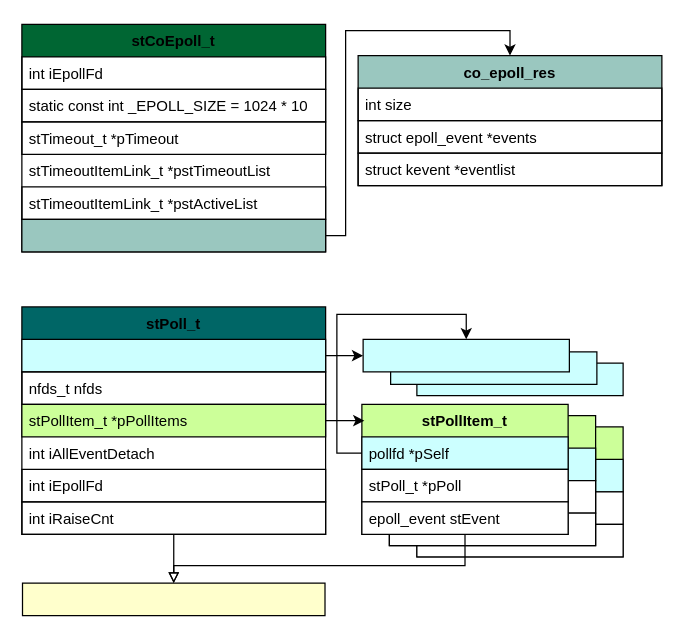
Image size: 684x638. Some labels were removed from this diagram. The shapes that lost their labels are listed below. From the top down, each one's centre as x and y in pixels, then its label:
At (173,235): "co_epoll_res *result".
At (173,355): "pollfd *fds".
At (465,355): "pollfd".
At (173,599): "stTimeoutItem_t".
